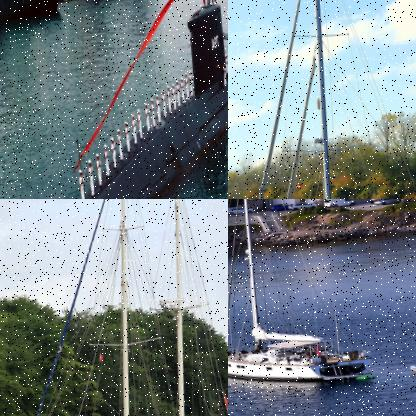Sails Boat: (0, 199, 227, 415), (228, 0, 415, 198), (228, 199, 375, 395)
Submarine: (0, 0, 227, 198)
